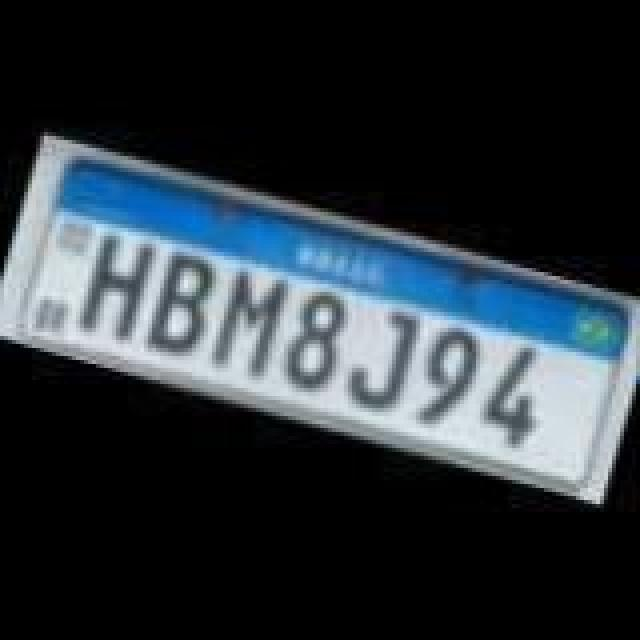4: (466, 338, 554, 458)
8: (268, 282, 356, 402)
9: (404, 318, 492, 434)
B: (142, 246, 226, 362)
H: (74, 224, 166, 344)
J: (328, 298, 424, 418)
M: (200, 260, 296, 380)
